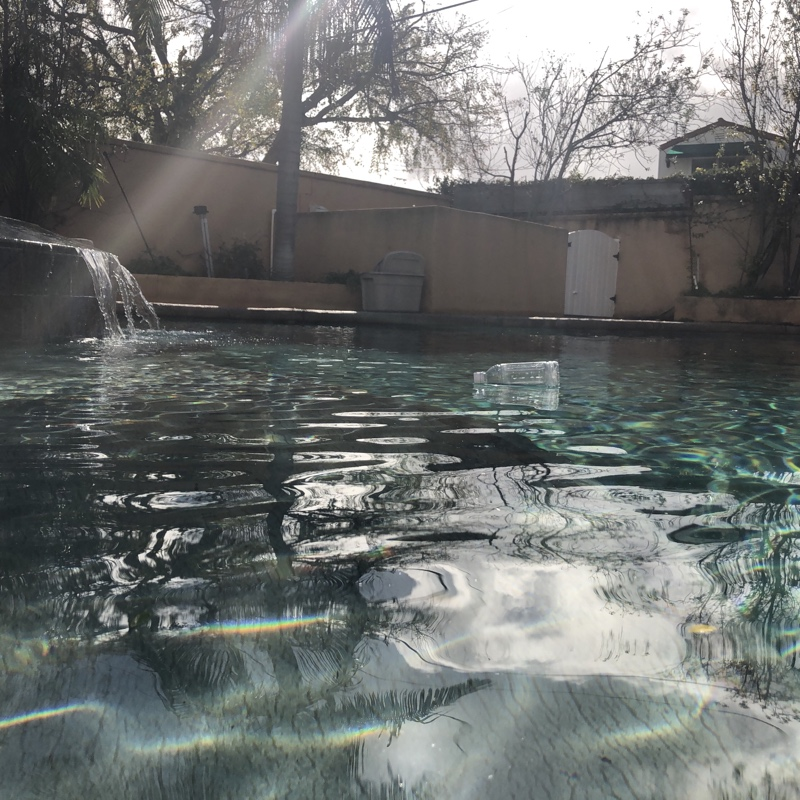Plastic Bottle: (466, 356, 559, 393)
